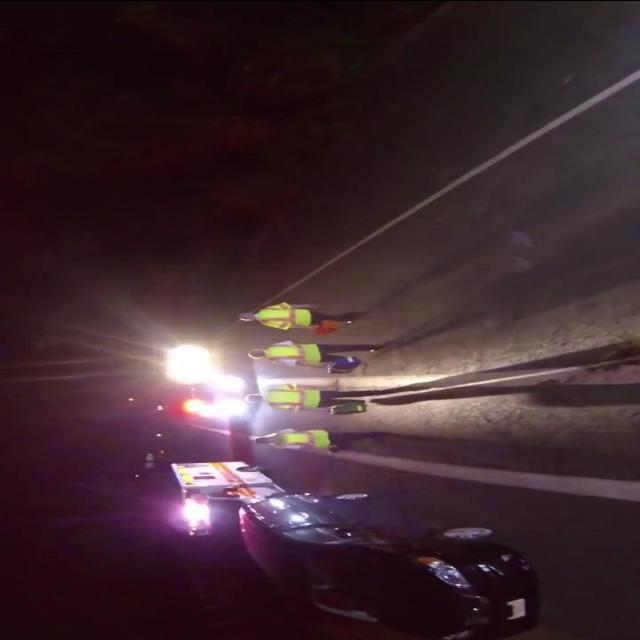jacket: (266, 379, 334, 413), (251, 300, 313, 330), (268, 422, 334, 450), (264, 337, 324, 365)
